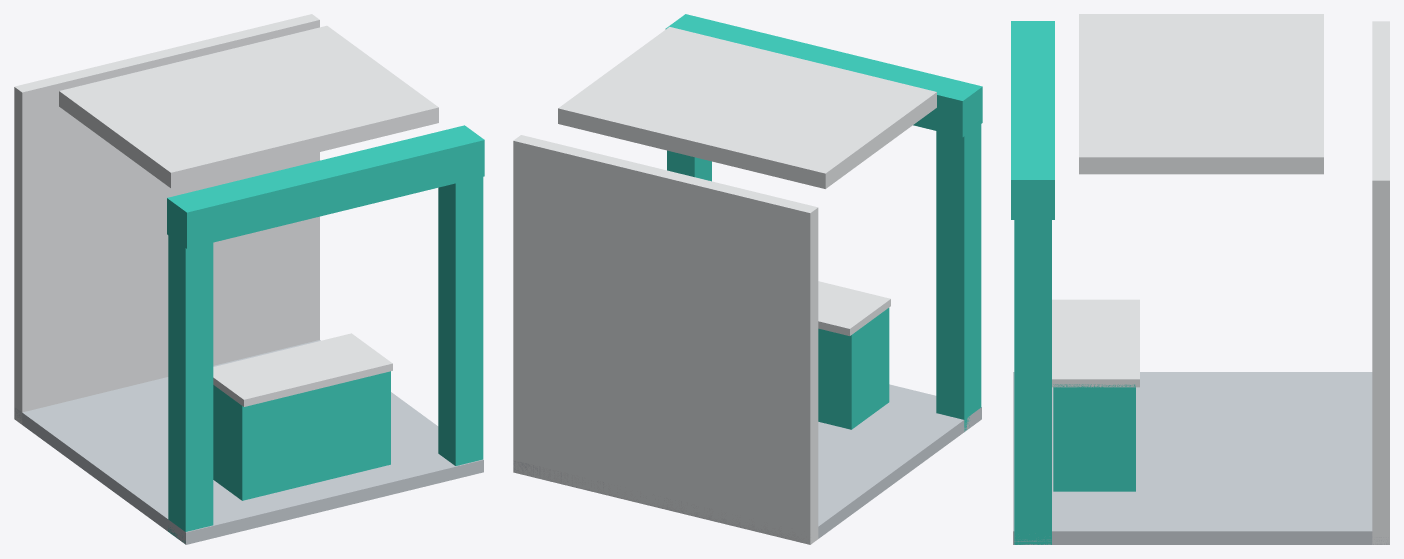
3 views of the same model, side by side, from view 1: azimuth 30°, elevation 25°; view 2: azimuth 150°, elevation 25°; view 3: azimuth 270°, elevation 25° (orthographic). The views are drawn at different scales.
Visible parts, largest first — view 1: Exhibition Booth Concept; view 2: Exhibition Booth Concept; view 3: Exhibition Booth Concept.
Part boxes in pixels (box(x1,y1,x2,y2)): Exhibition Booth Concept: box(14, 14, 484, 544); Exhibition Booth Concept: box(513, 14, 982, 544); Exhibition Booth Concept: box(1011, 14, 1389, 544).
Bounding box in the file's own units: 3 × 3.34 × 3.01.
